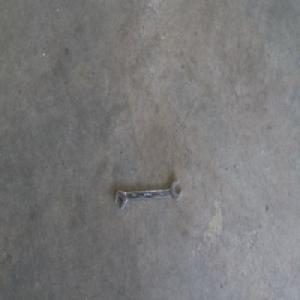Wrench: (115, 178, 182, 206)
